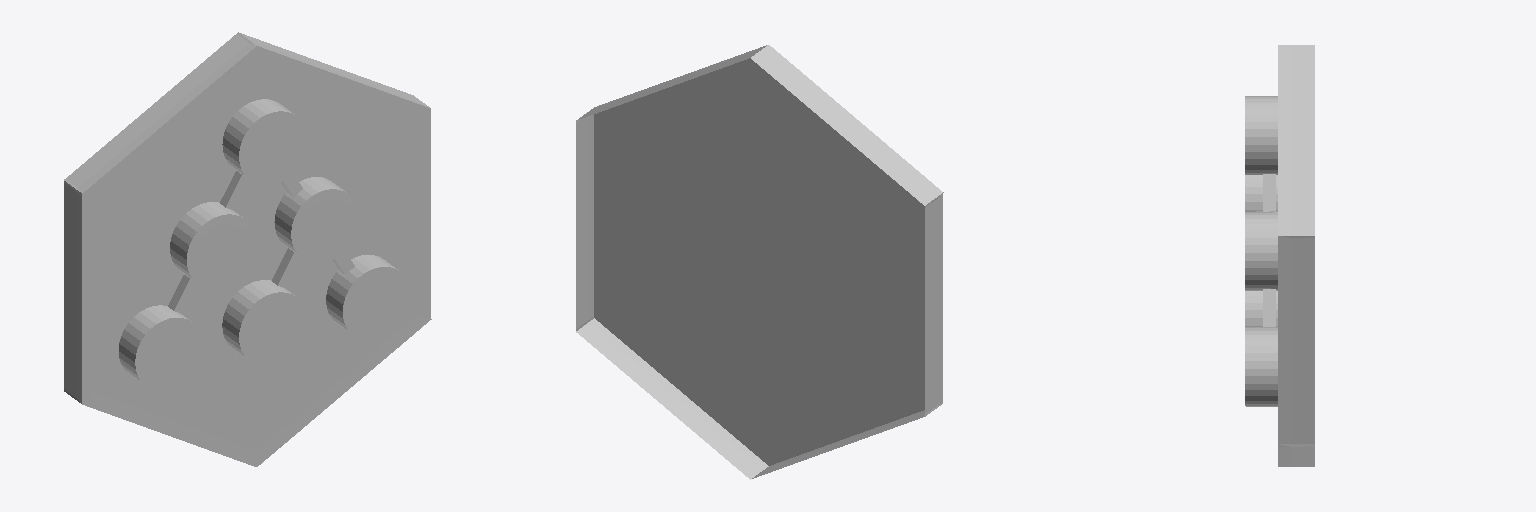
Rendered from binary_tree.obj.
3 renders of one model, left to right at view 1: azimuth 30°, elevation 25°; view 2: azimuth 150°, elevation 25°; view 3: azimuth 270°, elevation 25°, orthographic.
Parts seen in each view (by area): view 1: Main-LR; view 2: Main-LR; view 3: Main-LR.
Part boxes in pixels (x1,y1,x2,y2): Main-LR: (64, 32, 431, 466); Main-LR: (576, 45, 943, 479); Main-LR: (1245, 45, 1314, 466).
Bounding box in the file's own units: 10.1 × 11.66 × 1.78.